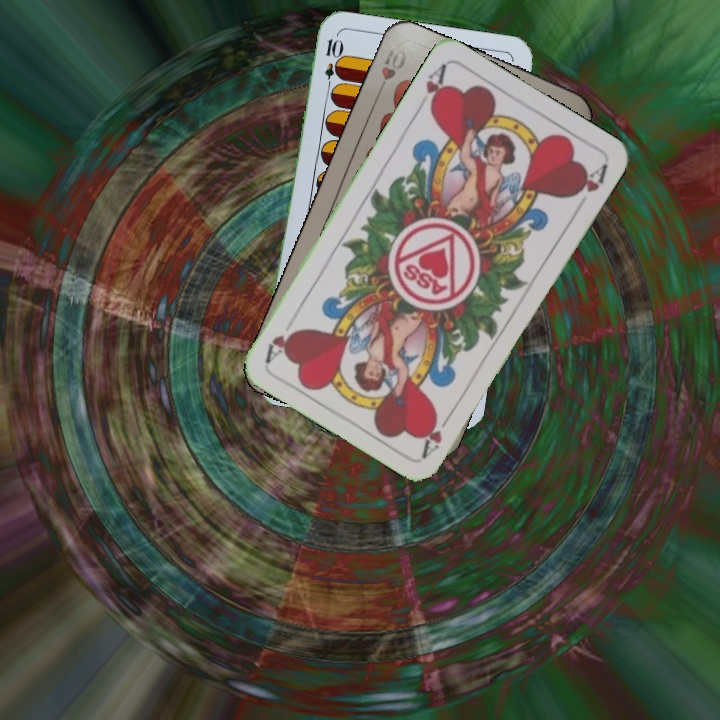E10: (320, 35, 342, 94)
H10: (372, 43, 410, 99)
HA: (418, 406, 456, 460), (412, 61, 449, 116)
